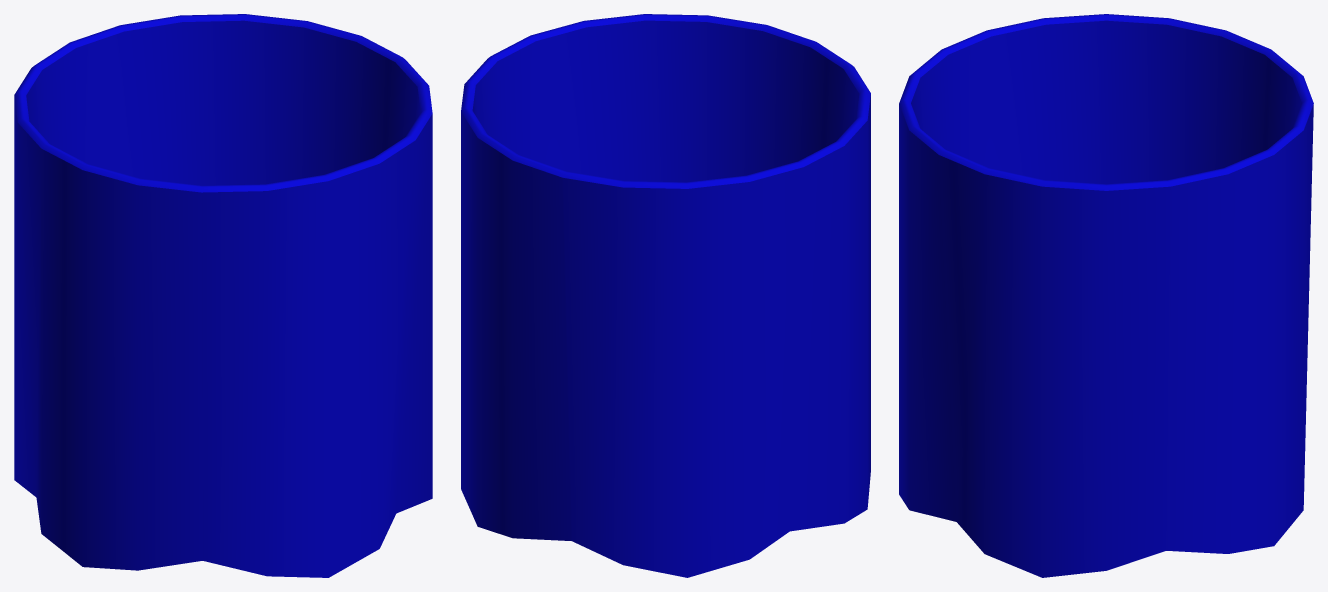
The model's file is SM_ScotchGlass_001.fbx.
3 views of the same model, side by side, from view 1: azimuth 30°, elevation 25°; view 2: azimuth 150°, elevation 25°; view 3: azimuth 270°, elevation 25° (orthographic). The views are drawn at different scales.
Parts seen in each view (by area): view 1: GlassScotch_001; view 2: GlassScotch_001; view 3: GlassScotch_001.
Part boxes in pixels (x1,y1,x2,y2): GlassScotch_001: [14, 14, 432, 577]; GlassScotch_001: [461, 14, 870, 577]; GlassScotch_001: [899, 14, 1313, 577].
Size of the model in its own units: 8.7 by 9.14 by 8.7.
